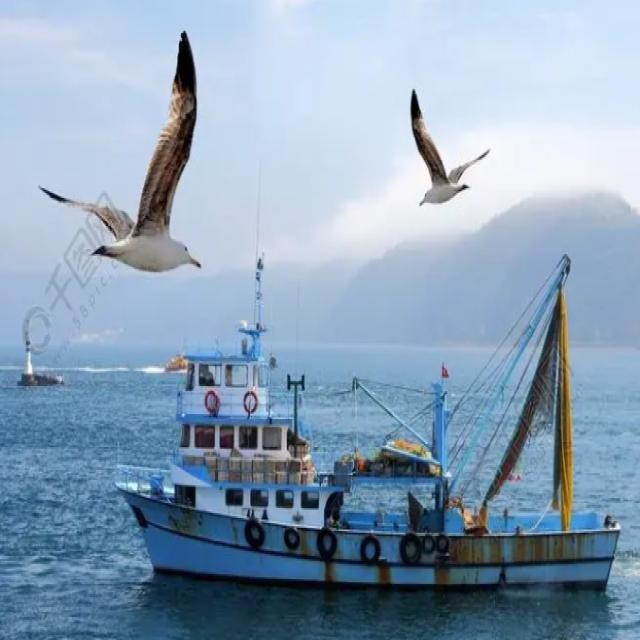fishing boat: (121, 244, 624, 601)
